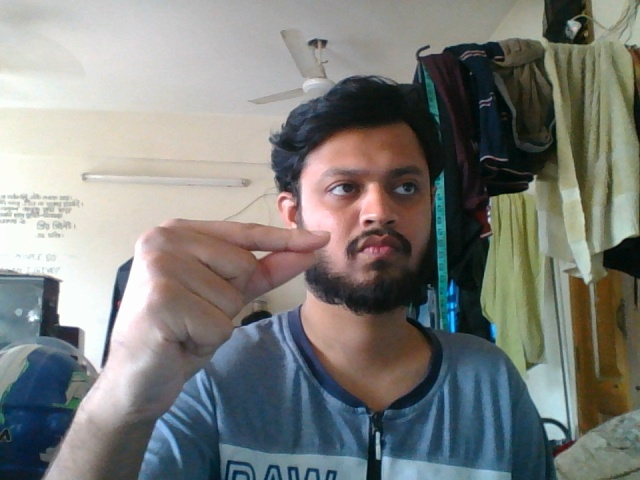onushhar: (110, 215, 331, 411)
